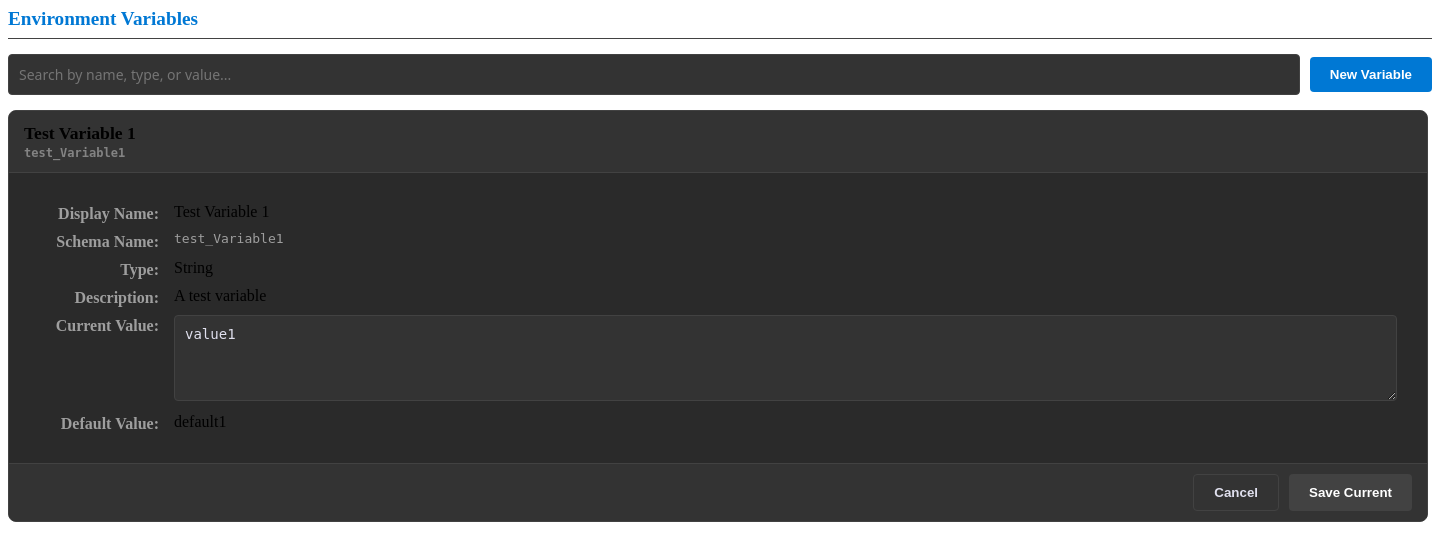
Test case: EnvVarsTab › _editVariable edge cases › should disable save button when value reverts to original
Replace the text in the text box with class "env-var-edit-area" with "changed". click: (786, 358)
box: [174,315,1397,401]
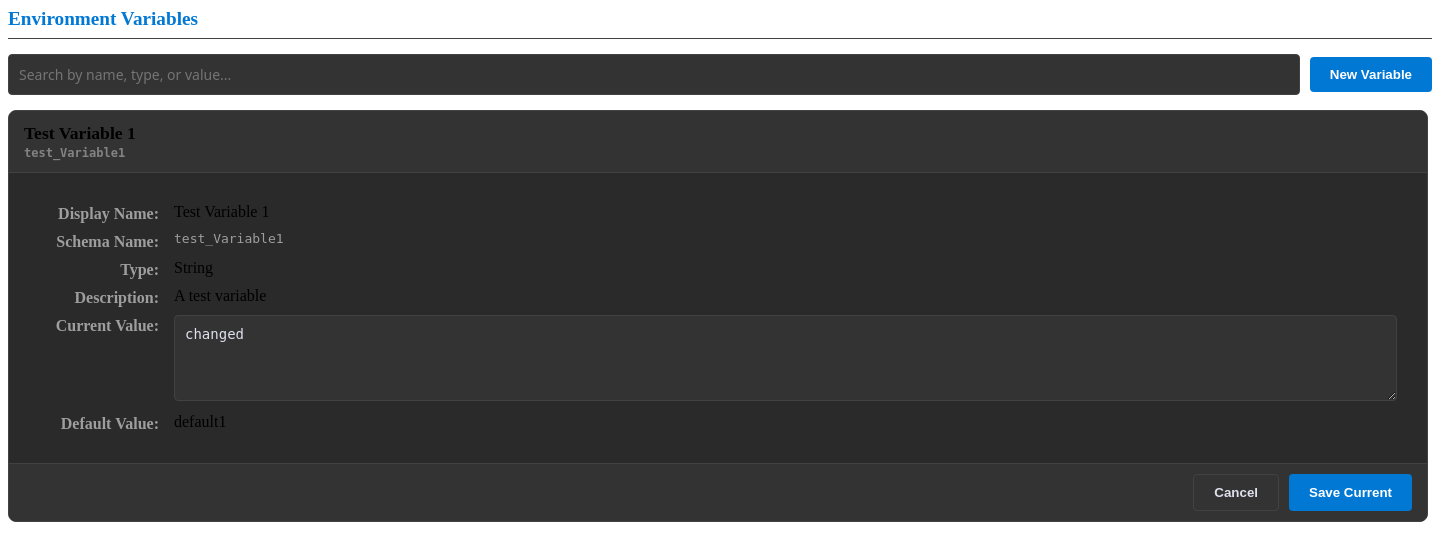
Result: the button with class "save-btn" is enabled at [1289,474,1412,511]
Replace the text in the text box with class "env-var-edit-area" with "value1". click: (786, 358)
box: [174,315,1397,401]
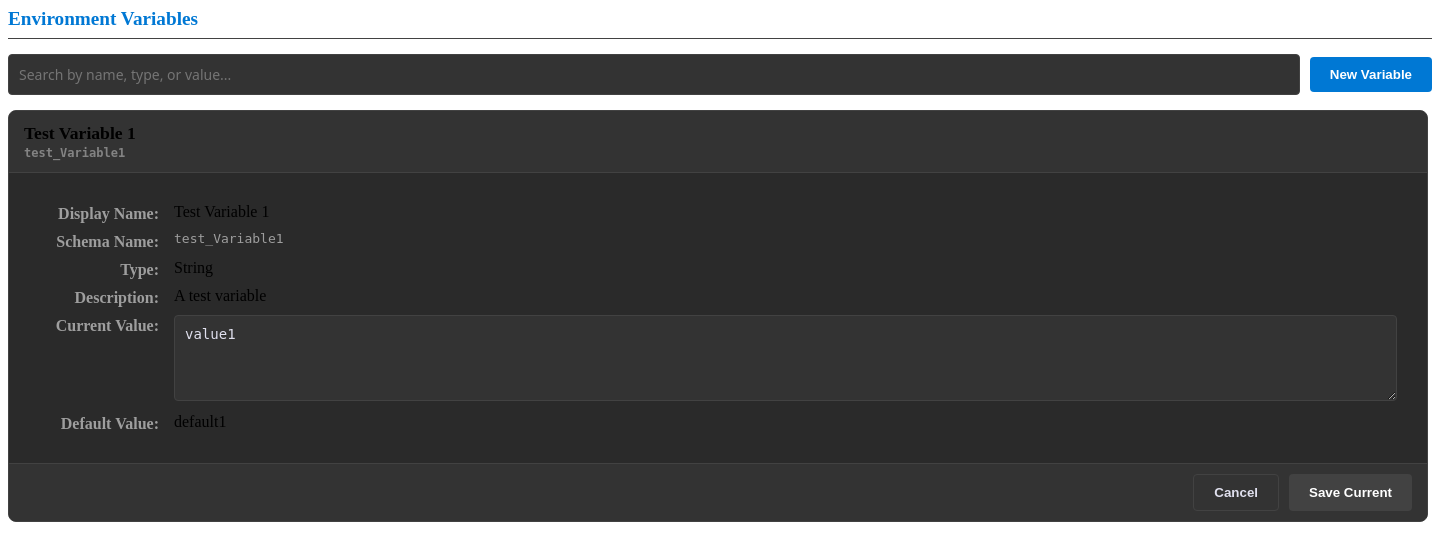
Result: the button with class "save-btn" is disabled at [1289,474,1412,511]
